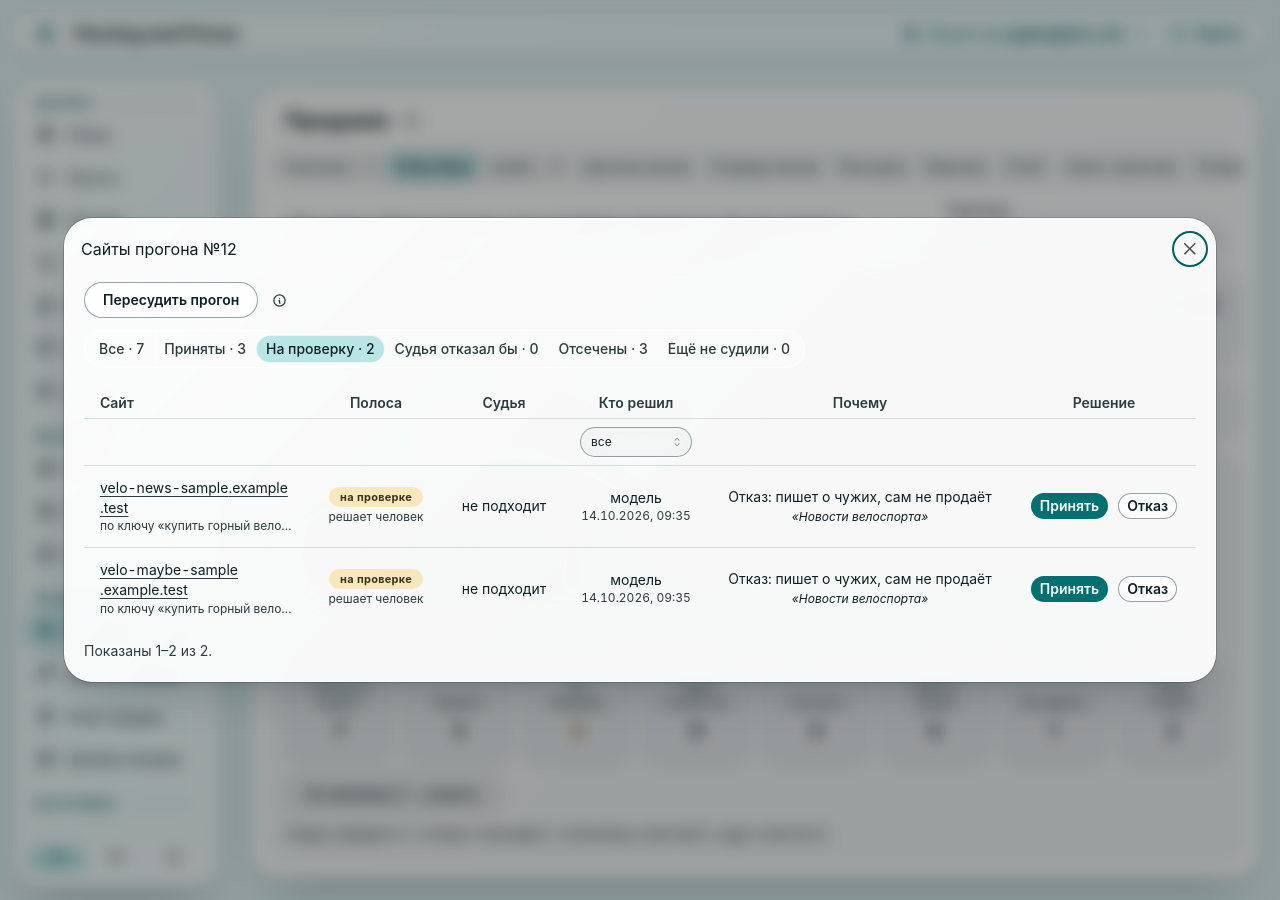
Test: сбор базы: ход прогона — экран › двойной клик по решению — одно решение; строка стоит на месте с пометкой
The image size is (1280, 900).
Expected: the heading "Сегмент гипотезы" is shown, [286,292,435,316]
Step 1. Double-click the button "Принять" in the row of "velo-news-sample" → (1070, 506), box [1031,493,1108,519]
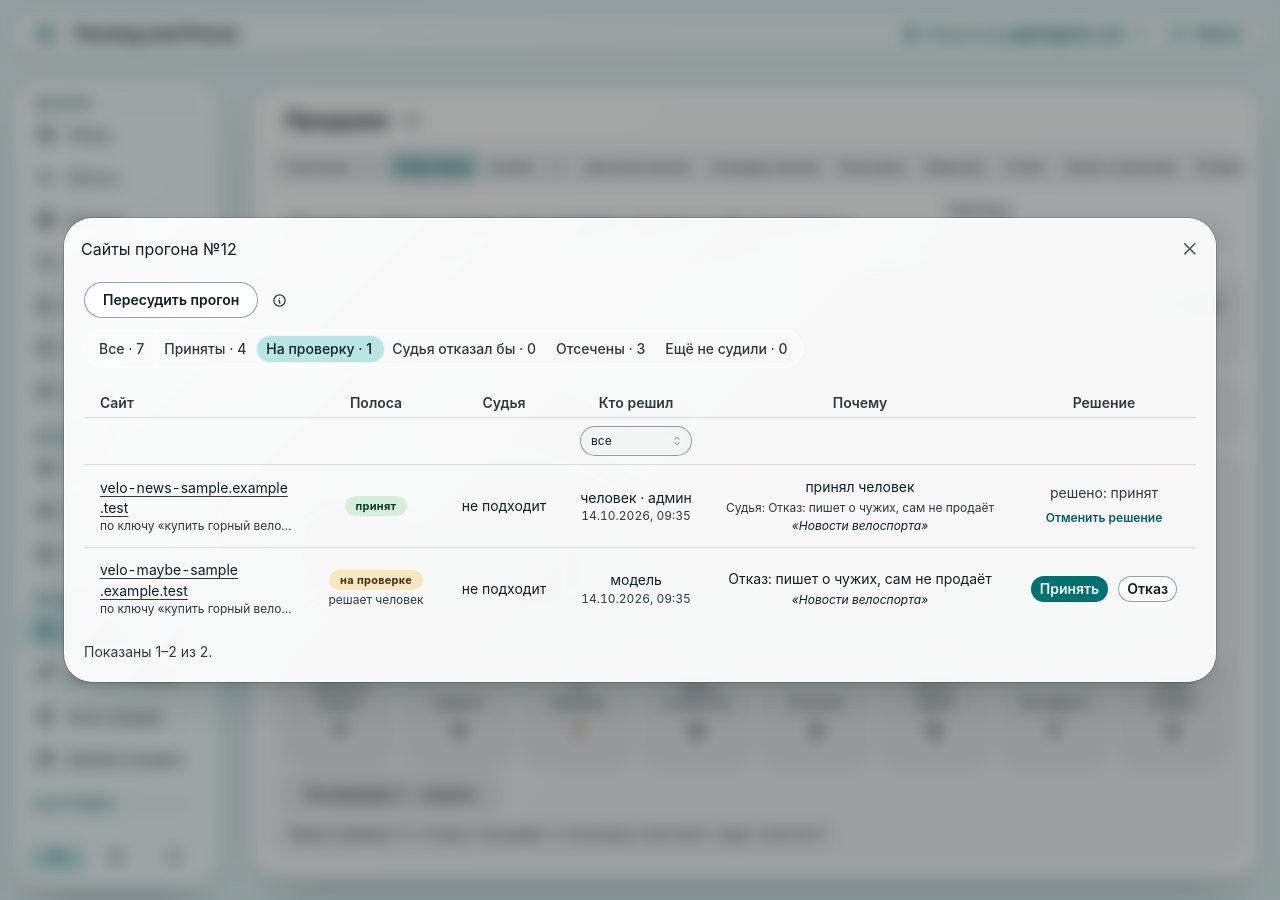
Expected: the row that starts with "velo-news-sample" shows "velo-news-sample.example.test", [84,465,1196,548]
Expected: the text "решено: принят" is shown, [1050,483,1158,504]
